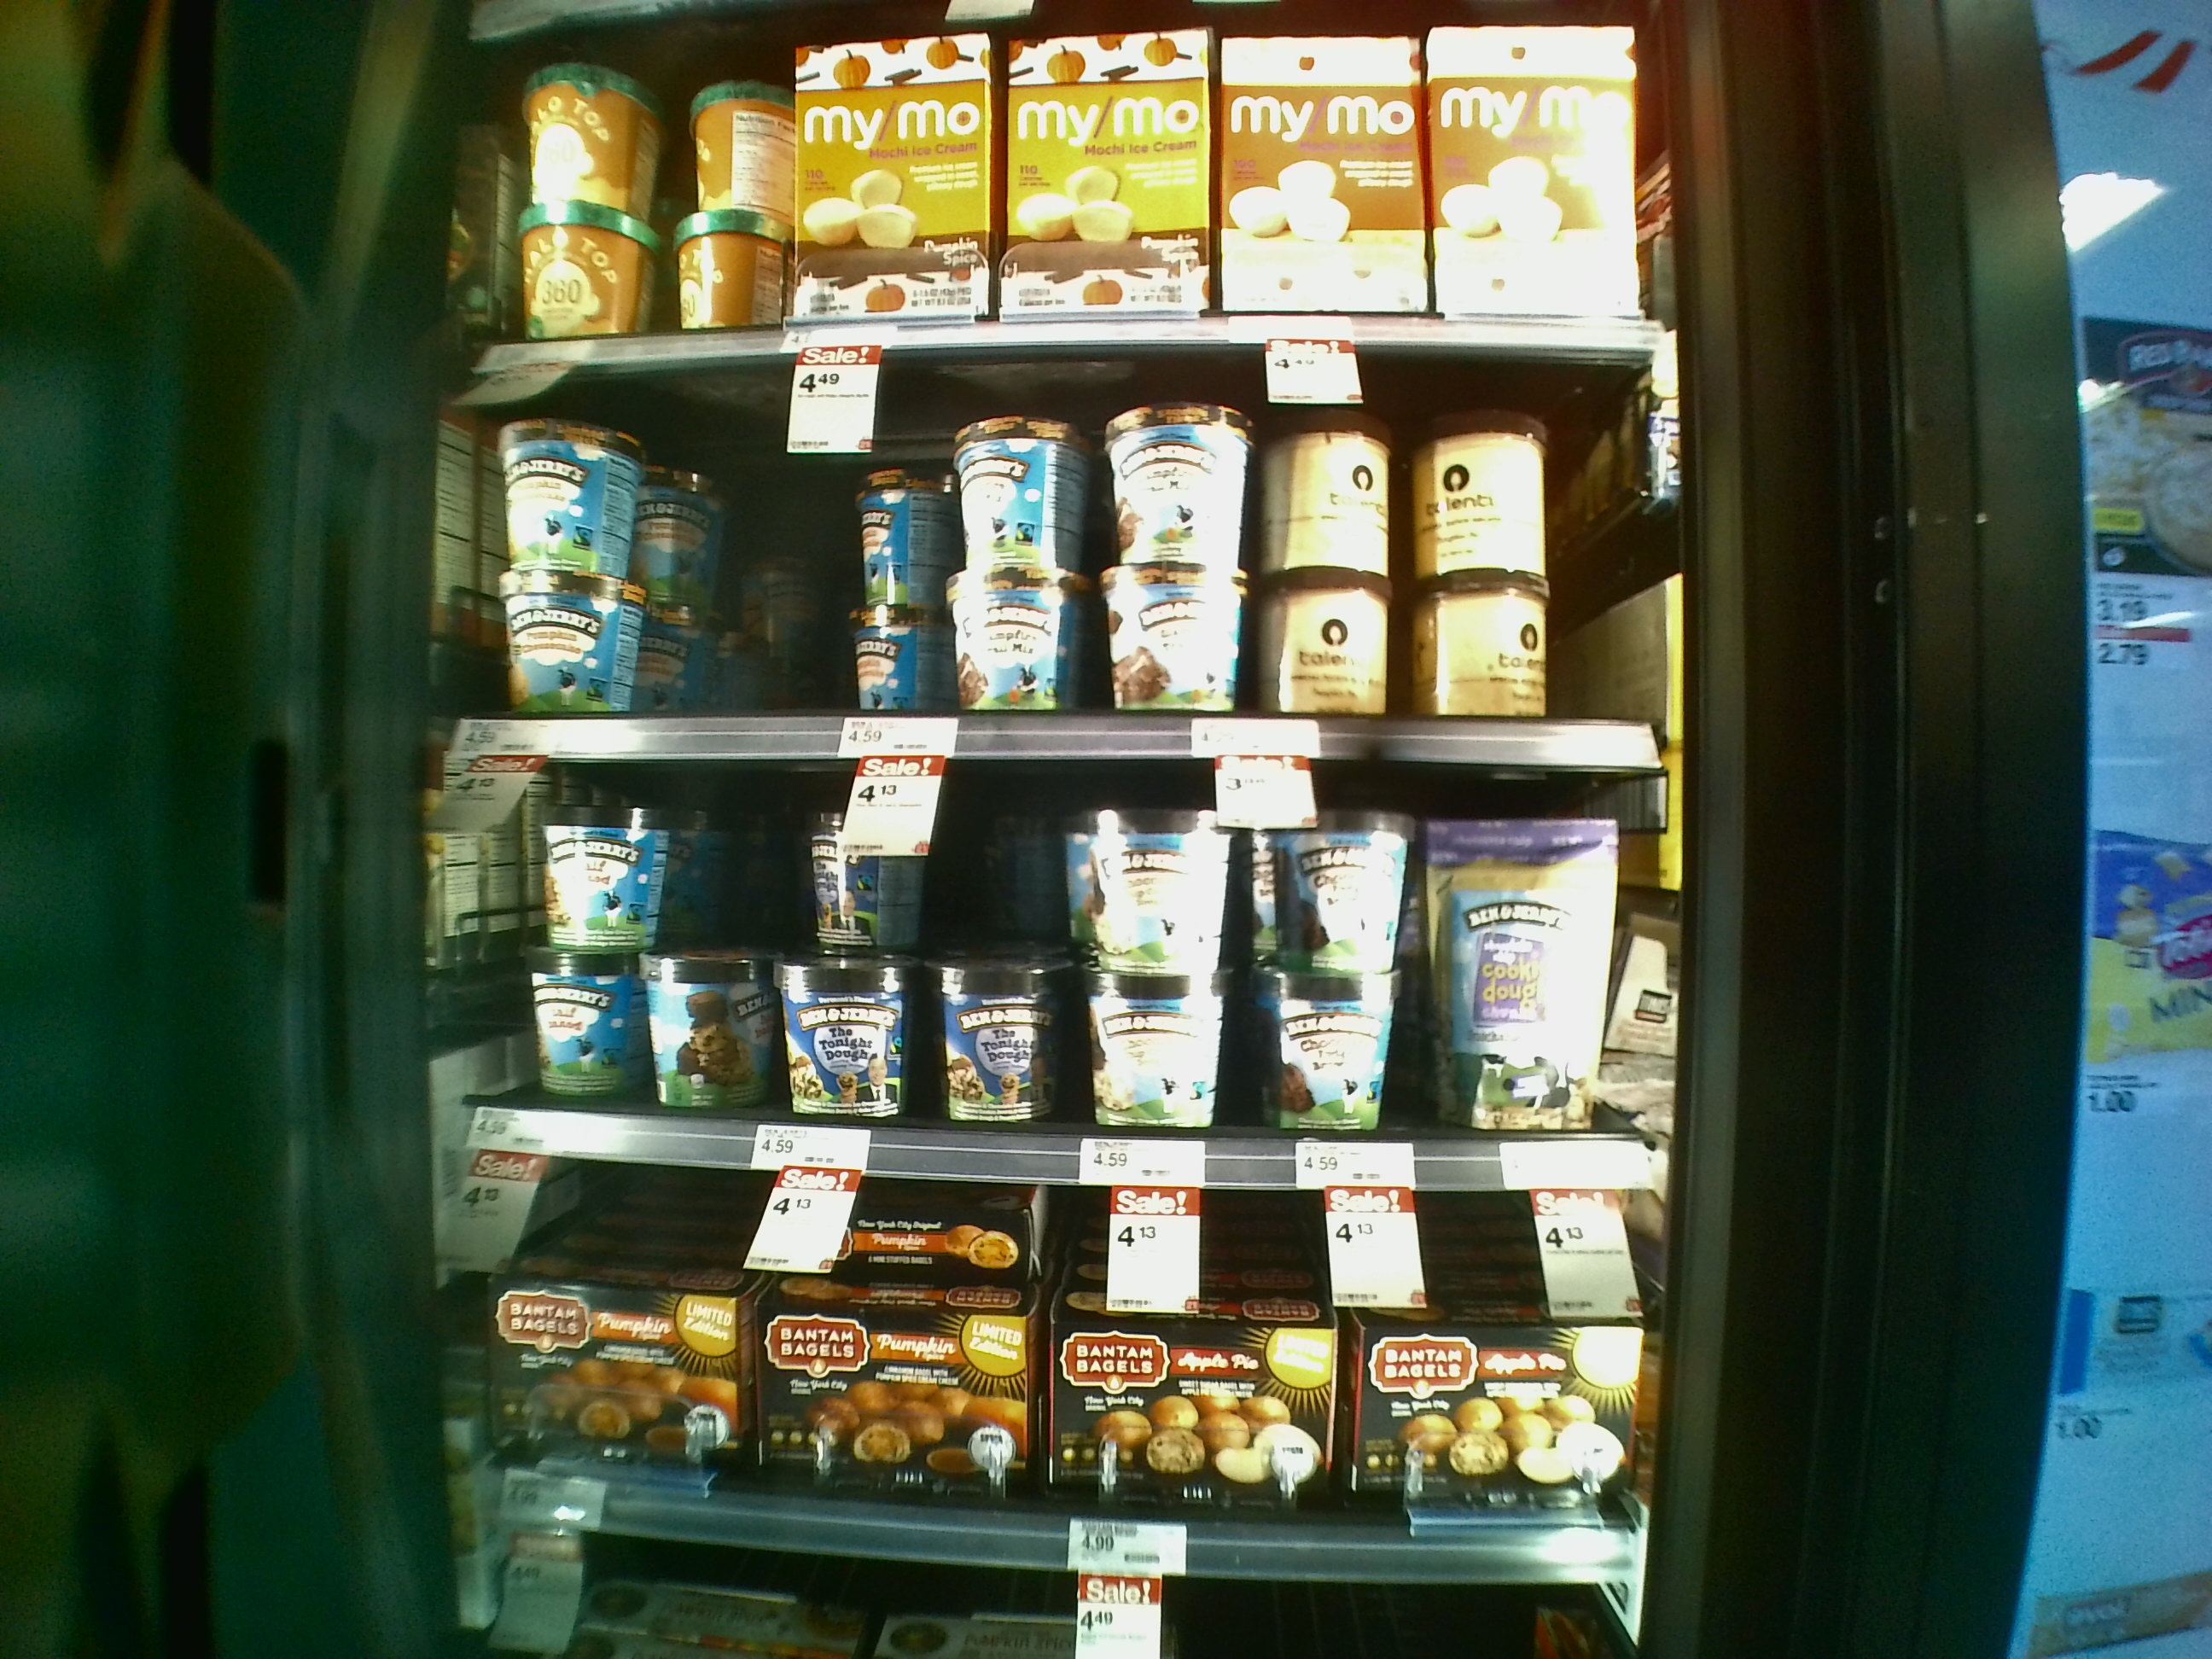shelf: (462, 721, 1649, 1169), (460, 1122, 1622, 1561), (488, 347, 1656, 769)
